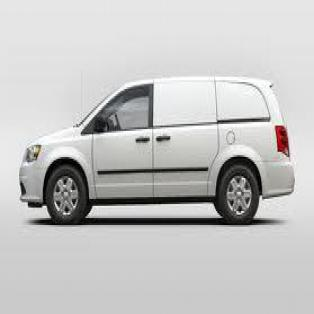Auto: (19, 70, 295, 228)
